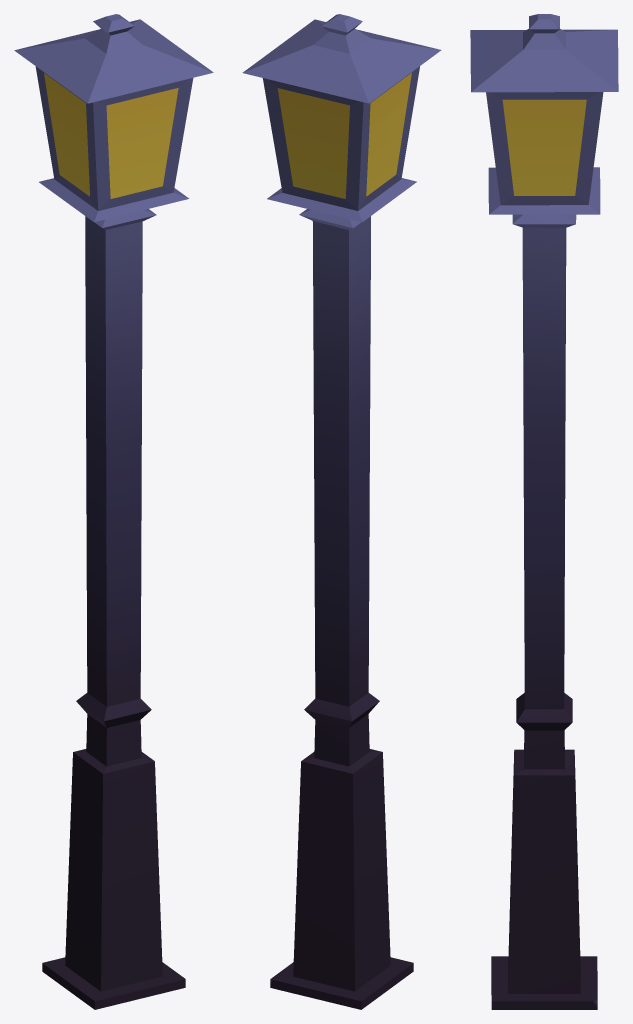
File: lamp.fbx
3 renders of one model, left to right at view 1: azimuth 30°, elevation 25°; view 2: azimuth 150°, elevation 25°; view 3: azimuth 270°, elevation 25°, orthographic.
Parts seen in each view (by area): view 1: lamp; view 2: lamp; view 3: lamp.
Boxes of the visible parts, x1,y1,x2,y2 form: lamp: (14, 14, 213, 1009); lamp: (242, 14, 441, 1009); lamp: (470, 14, 618, 1009).
Size of the model in its own units: 4.06 by 29.37 by 4.06.
